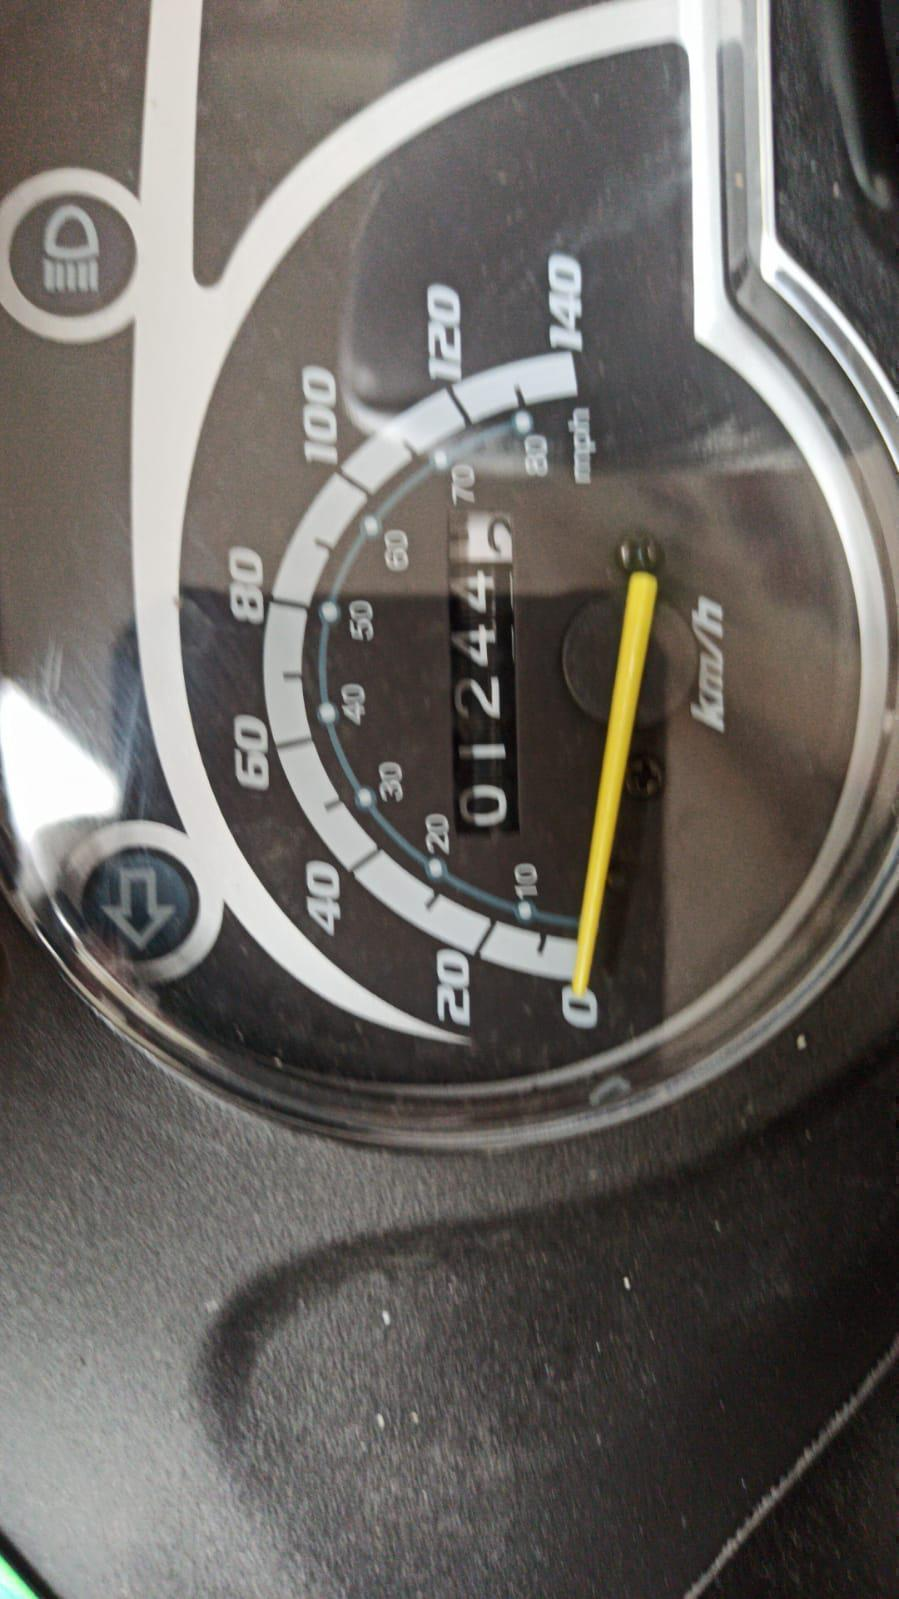0: (454, 778, 513, 826)
1: (450, 735, 524, 769)
2: (450, 672, 513, 725), (474, 511, 533, 563)
4: (443, 619, 503, 664), (443, 567, 502, 612)
odometer: (441, 497, 535, 834)
